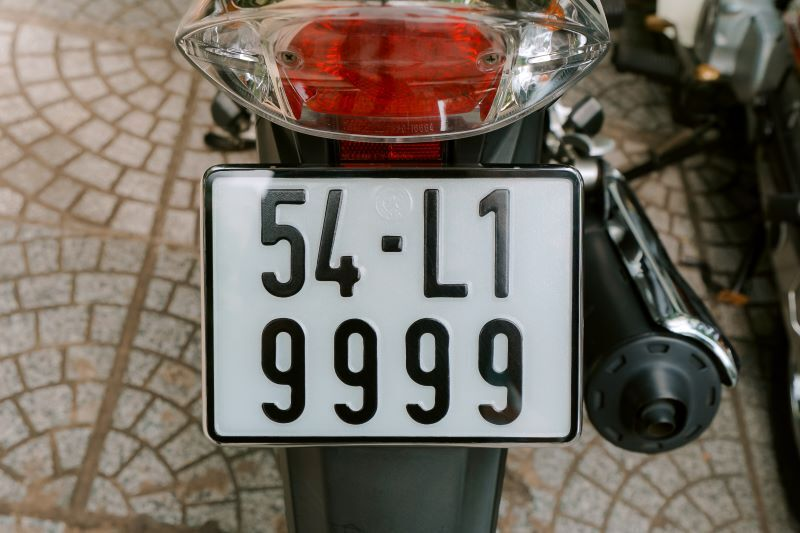number_plate: (201, 169, 579, 440)
